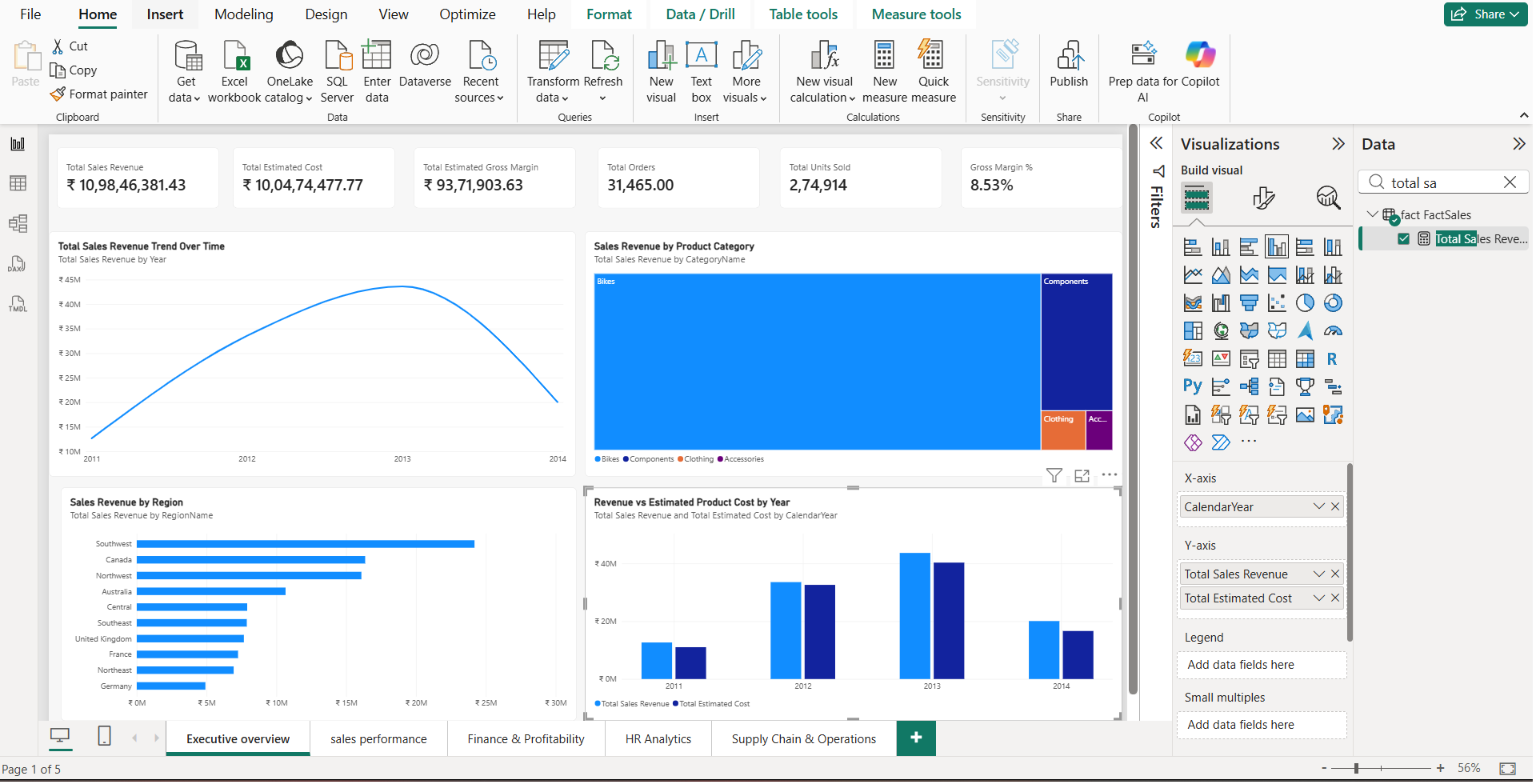

The dashboard page shown, as its layout file describes it:
{"tool":"powerbi","page":{"name":"Executive overview","canvas":[1920,1080],"ordinal":0},"visuals":[{"type":"cardVisual","fields":{"Data":["fact FactSales.Total Sales Revenue"]},"box":[14.4,22.6,290.2,109.1],"z":0},{"type":"cardVisual","fields":{"Data":["fact FactSales.Total Orders"]},"box":[981.8,22.6,290.2,109.1],"z":1},{"type":"cardVisual","fields":{"Data":["fact FactSales.Total Estimated Cost"]},"box":[329.3,22.6,290.2,109.1],"z":2},{"type":"cardVisual","fields":{"Data":["fact FactSales.Total Estimated Gross Margin"]},"box":[652.5,22.6,290.2,109.1],"z":3},{"type":"cardVisual","fields":{"Data":["fact FactSales.Gross Margin %"]},"box":[1630.2,22.6,290.2,109.1],"z":4},{"type":"cardVisual","fields":{"Data":["fact FactSales.Total Units Sold"]},"box":[1307,22.6,290.2,109.1],"z":5},{"type":"lineChart","title":"Total Sales Revenue Trend Over Time","fields":{"Category":["dim DimDate.FullDate.Variation.Date Hierarchy.Year","dim DimDate.FullDate.Variation.Date Hierarchy.Quarter","dim DimDate.FullDate.Variation.Date Hierarchy.Month","dim DimDate.FullDate.Variation.Date Hierarchy.Day"],"Y":["fact FactSales.Total Sales Revenue"]},"box":[0,172.9,942.7,438.4],"z":6},{"type":"clusteredBarChart","title":"Sales Revenue by Region","fields":{"Category":["dim DimRegion.RegionName"],"Y":["fact FactSales.Total Sales Revenue"]},"box":[20.6,631.9,922.1,417.8],"z":7},{"type":"treemap","title":"Sales Revenue by Product Category","fields":{"Group":["dim DimProduct.CategoryName"],"Values":["fact FactSales.Total Sales Revenue"]},"box":[959.2,172.9,961.2,438.4],"z":8},{"type":"clusteredColumnChart","title":"Revenue vs Estimated Product Cost by Year","fields":{"Category":["dim DimDate.CalendarYear"],"Y":["fact FactSales.Total Sales Revenue","fact FactSales.Total Estimated Cost"]},"box":[959.2,631.9,961.2,417.8],"z":9}]}

Visuals, with their boxes on the page's 1920x1080 design canvas (x1, y1, x2, y2). These are canvas units, not pixel positions in the 1533x782 screenshot, which may show the page scaled, cropped or inside an application window:
cardVisual - fact FactSales.Total Sales Revenue: <region>14, 23, 305, 132</region>
cardVisual - fact FactSales.Total Orders: <region>982, 23, 1272, 132</region>
cardVisual - fact FactSales.Total Estimated Cost: <region>329, 23, 620, 132</region>
cardVisual - fact FactSales.Total Estimated Gross Margin: <region>652, 23, 943, 132</region>
cardVisual - fact FactSales.Gross Margin %: <region>1630, 23, 1920, 132</region>
cardVisual - fact FactSales.Total Units Sold: <region>1307, 23, 1597, 132</region>
"Total Sales Revenue Trend Over Time" lineChart: <region>0, 173, 943, 611</region>
"Sales Revenue by Region" clusteredBarChart: <region>21, 632, 943, 1050</region>
"Sales Revenue by Product Category" treemap: <region>959, 173, 1920, 611</region>
"Revenue vs Estimated Product Cost by Year" clusteredColumnChart: <region>959, 632, 1920, 1050</region>
